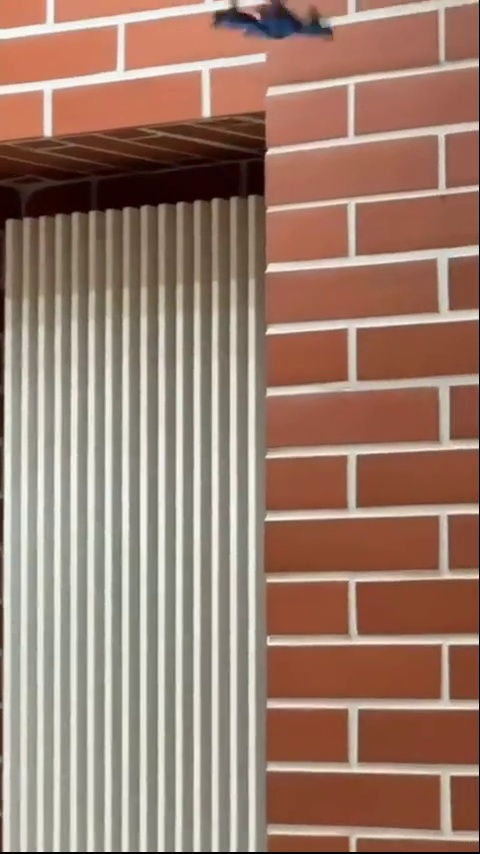drone: (208, 0, 331, 41)
